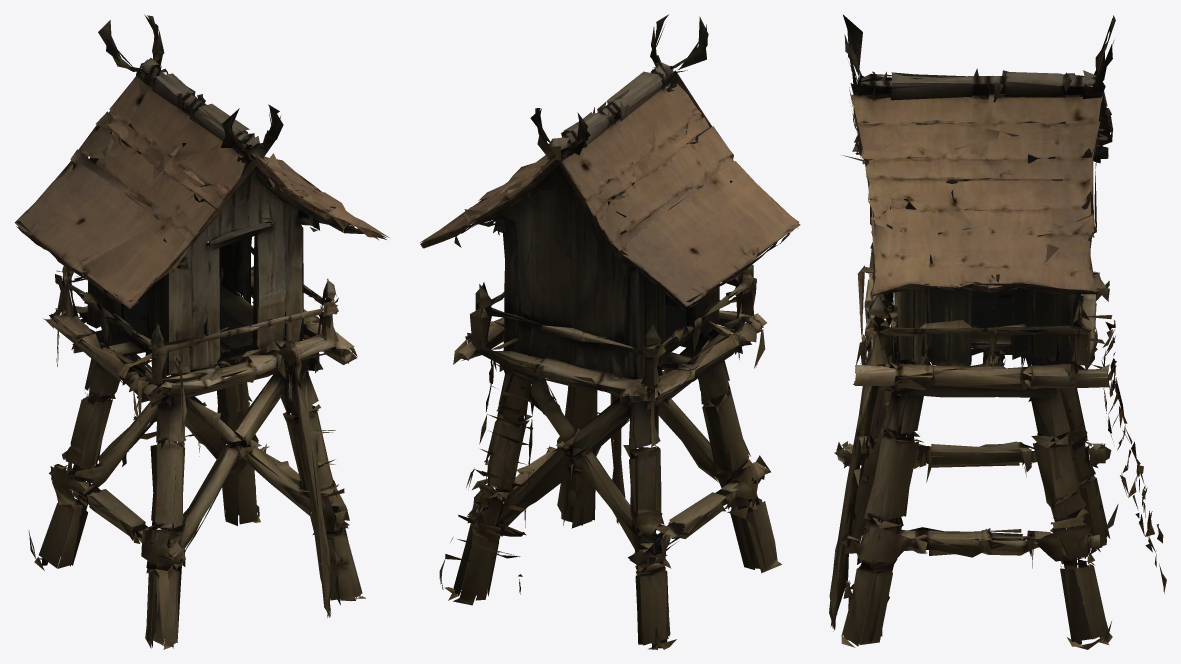
Rendered from goblin_tower.glb.
3 views of the same model, side by side, from view 1: azimuth 30°, elevation 25°; view 2: azimuth 150°, elevation 25°; view 3: azimuth 270°, elevation 25° (orthographic). The views are drawn at different scales.
Parts seen in each view (by area): view 1: goblin_tower; view 2: goblin_tower; view 3: goblin_tower.
Part boxes in pixels (x1,y1,x2,y2): goblin_tower: [14, 15, 389, 649]; goblin_tower: [420, 14, 800, 649]; goblin_tower: [829, 14, 1166, 649].
Size of the model in its own units: 3.53 by 6.5 by 3.48.
Materials: 1 (1 with a texture image).
